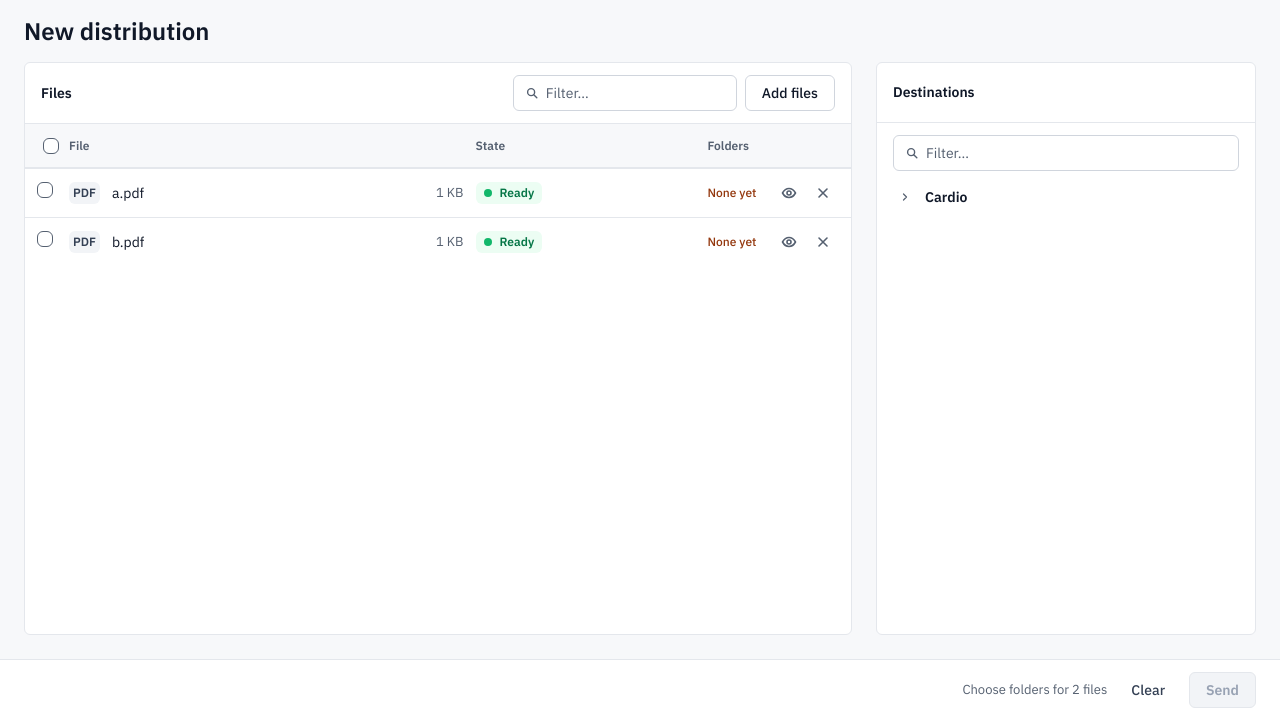
Clear asks first when there are files (D-F1-78) › asks "Remove all N files and their folder ticks?", with the focus on "Keep them"; "Keep them" changes nothing and gives the focus back to Clear
Click the button named "Expand Cardio" at (905, 197), box 893,185 -> 917,209
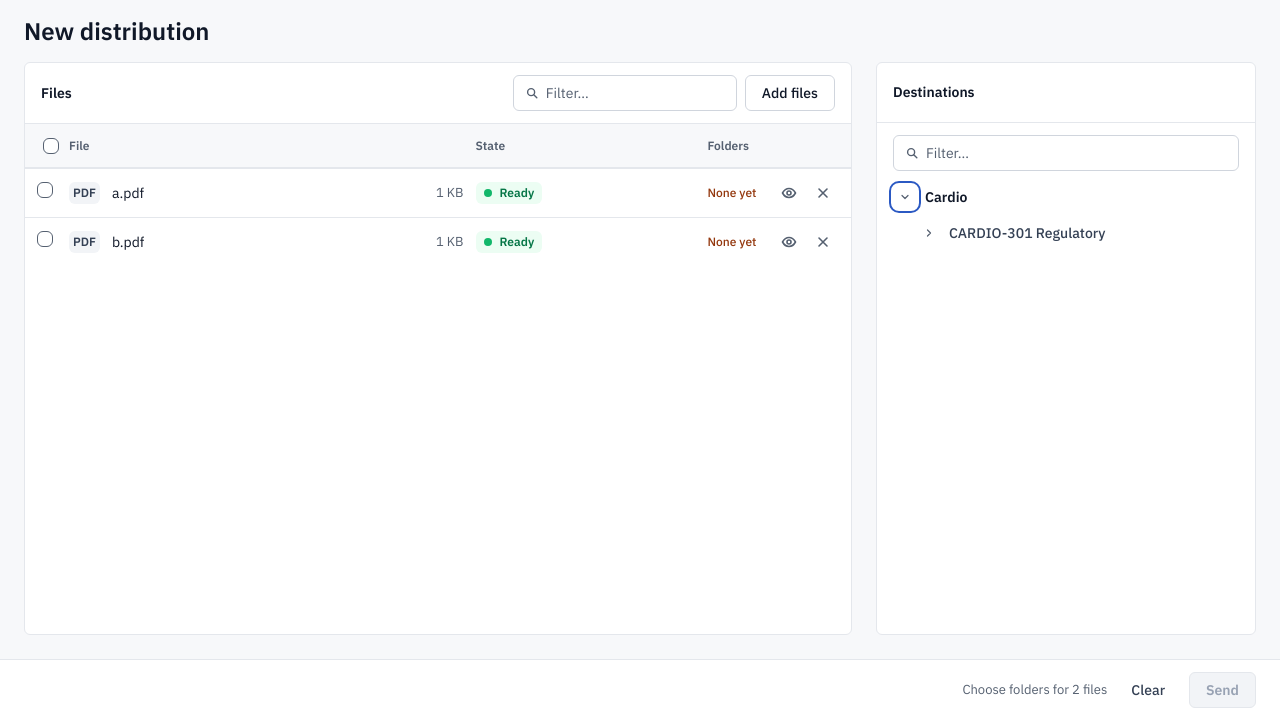
Click the button named "Expand CARDIO-301 Regulatory" at (929, 233), box 917,221 -> 941,245
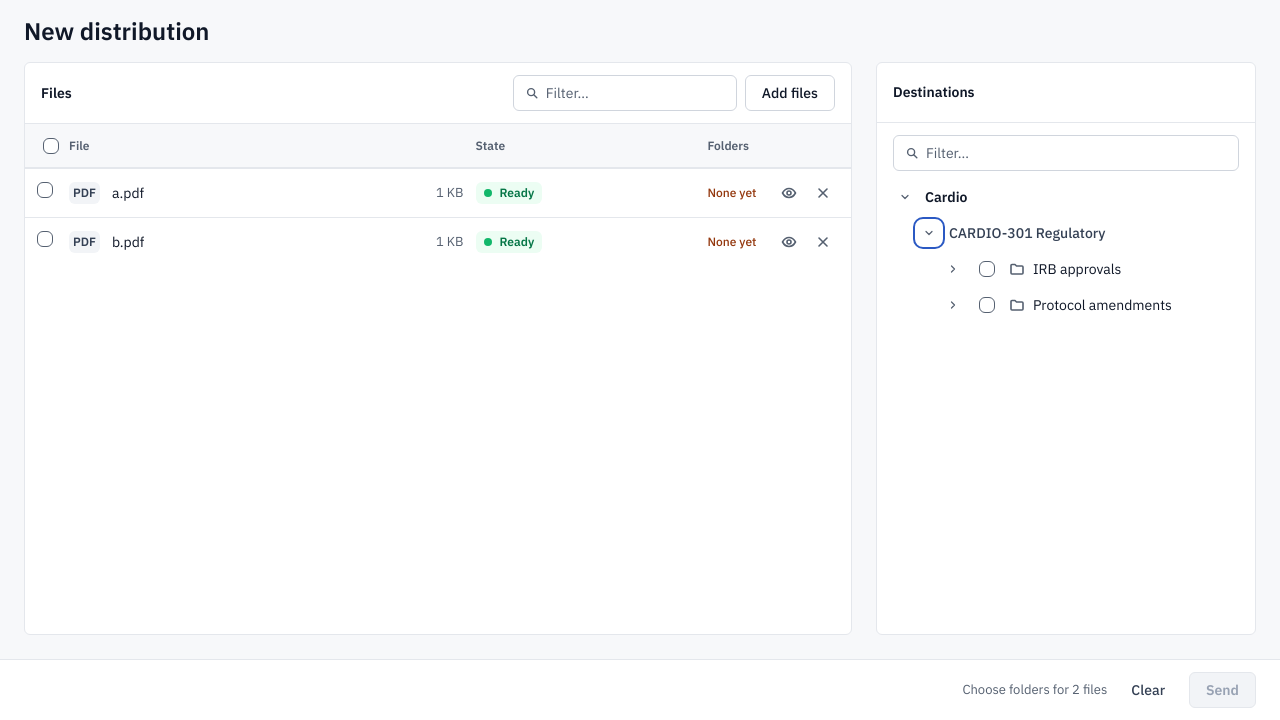
Click the checkbox named "Send all 2 files to Cardio / CARDIO-301 Regulatory / IRB app" at (987, 269), box 973,255 -> 1001,283
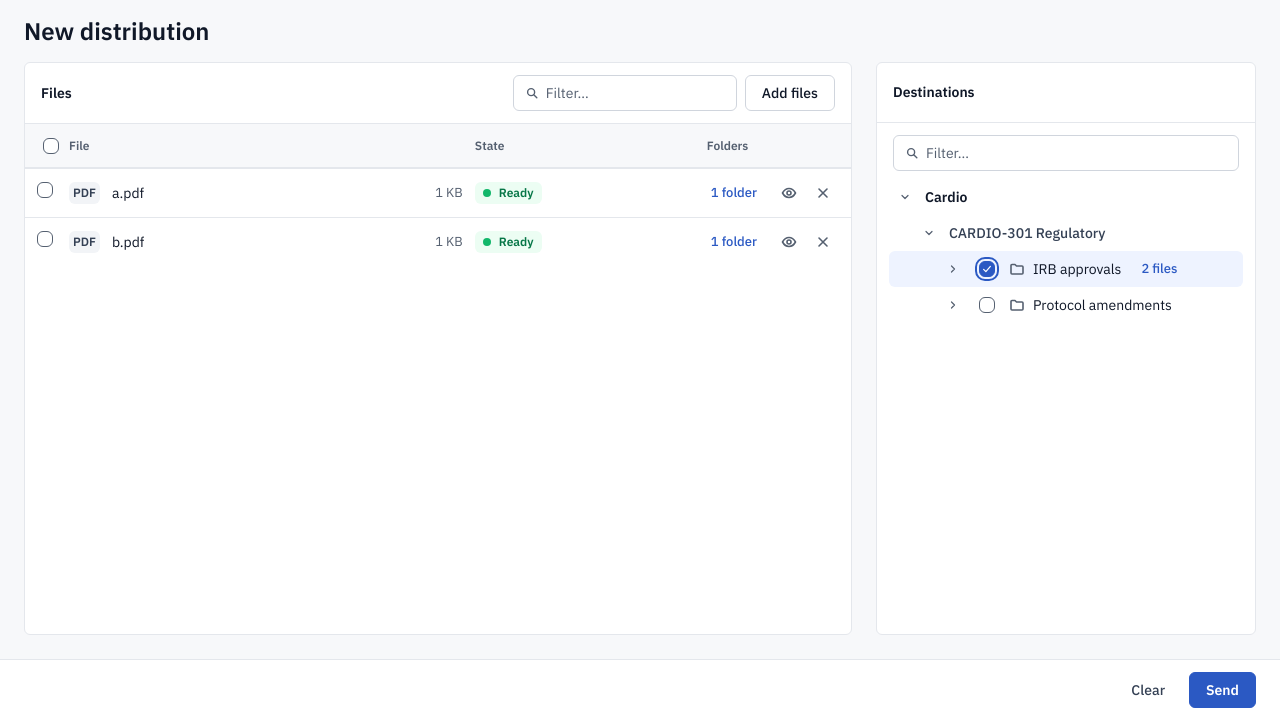
Click the button "Clear" at (1148, 690), box 1123,672 -> 1173,708
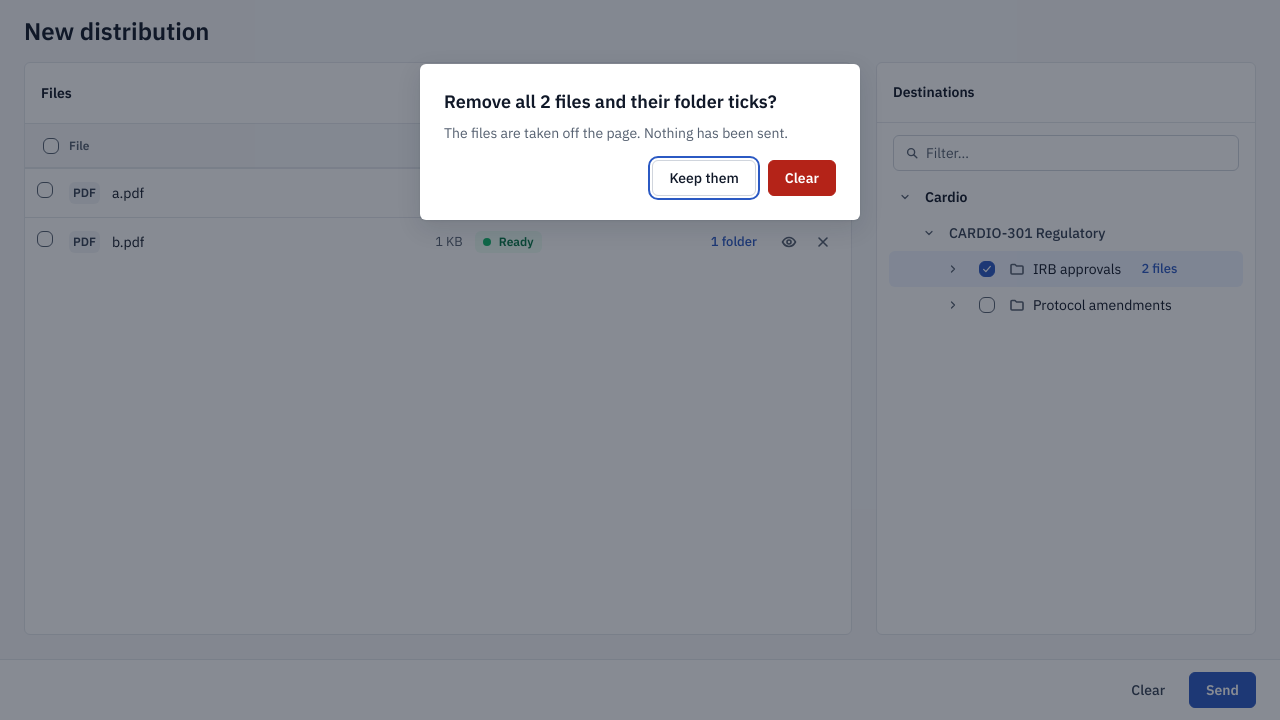
Now the button "Keep them" is shown
Click the button "Keep them" at (704, 178), box 652,160 -> 756,196
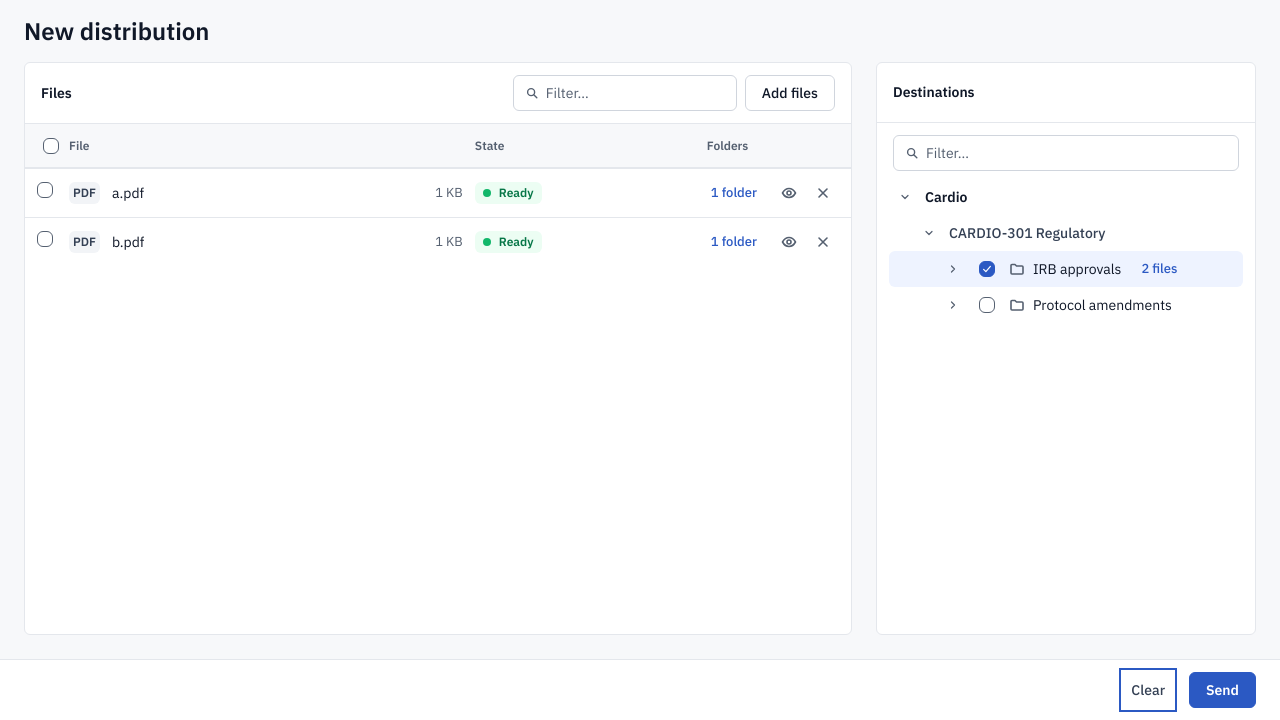
Now the dialog is gone
